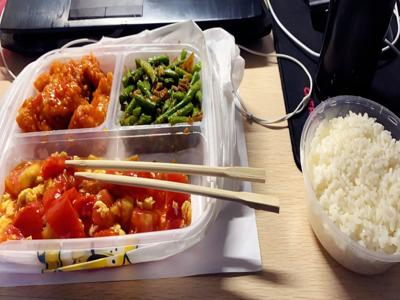j2: (23, 56, 116, 134)
jdxhs: (6, 146, 199, 236)
rice: (297, 101, 400, 262)
